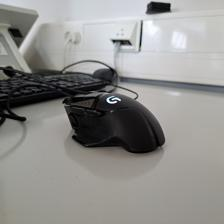mouse: (61, 90, 166, 154)
